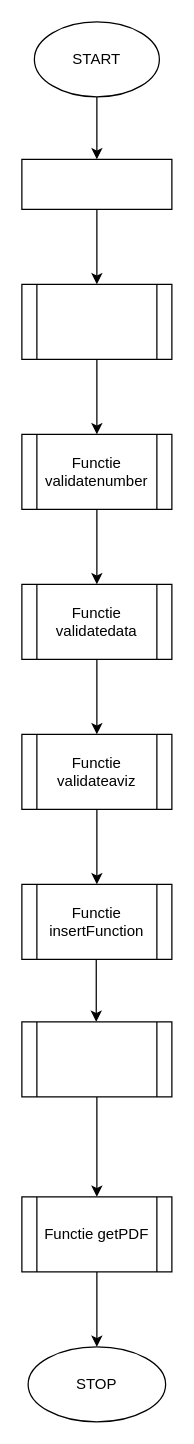
Image size: 194x1444. Some labels were removed from this diagram. Each missing label, with the centre of its shape:
"Atribuire variabile globale" belongs at (96,183).
"Functie eraseRow" belongs at (96,1059).
"Functie loadDoc" belongs at (96,321).
